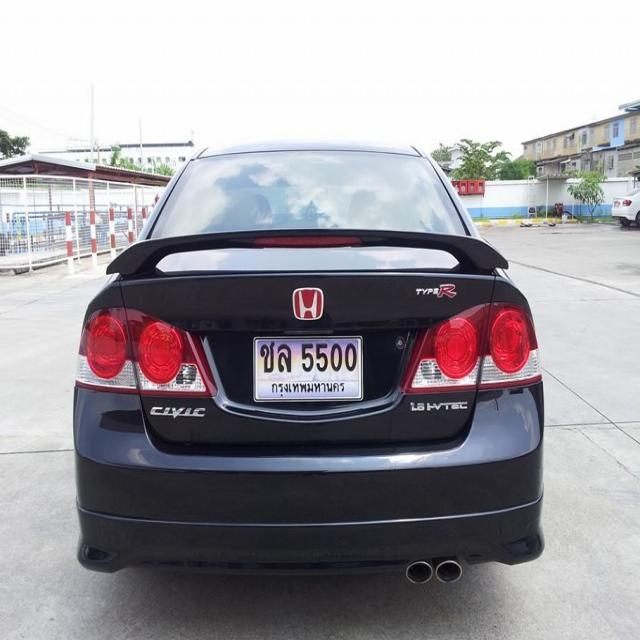license_plate: (250, 330, 366, 410)
